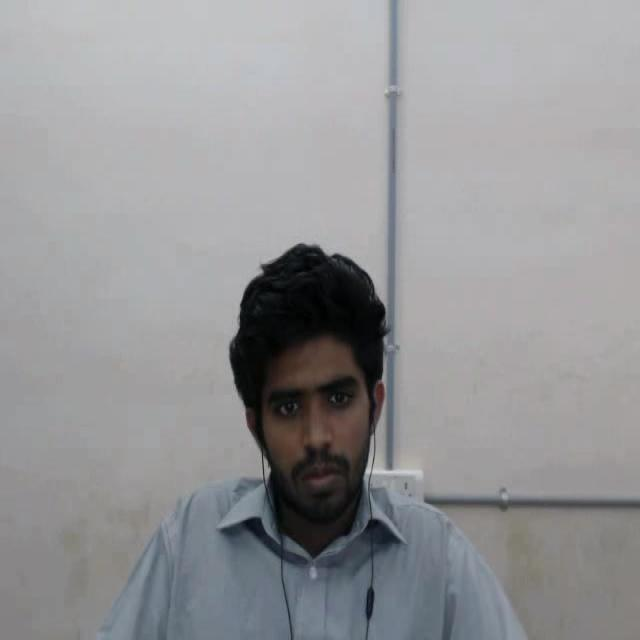Engaged: (199, 199, 395, 592)
